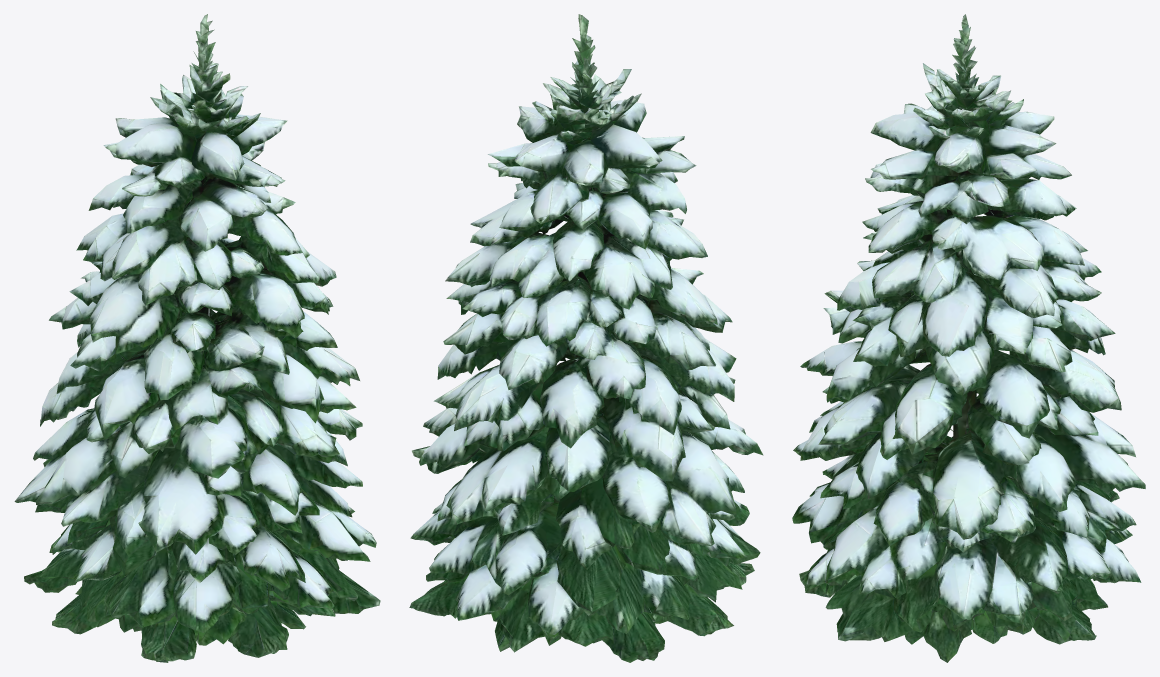
File: pine_tree.glb
3 views of the same model, side by side, from view 1: azimuth 30°, elevation 25°; view 2: azimuth 150°, elevation 25°; view 3: azimuth 270°, elevation 25° (orthographic).
Bounding box in the file's own units: 1.06 × 1.87 × 1.02.
Materials: 1 (1 with a texture image).
